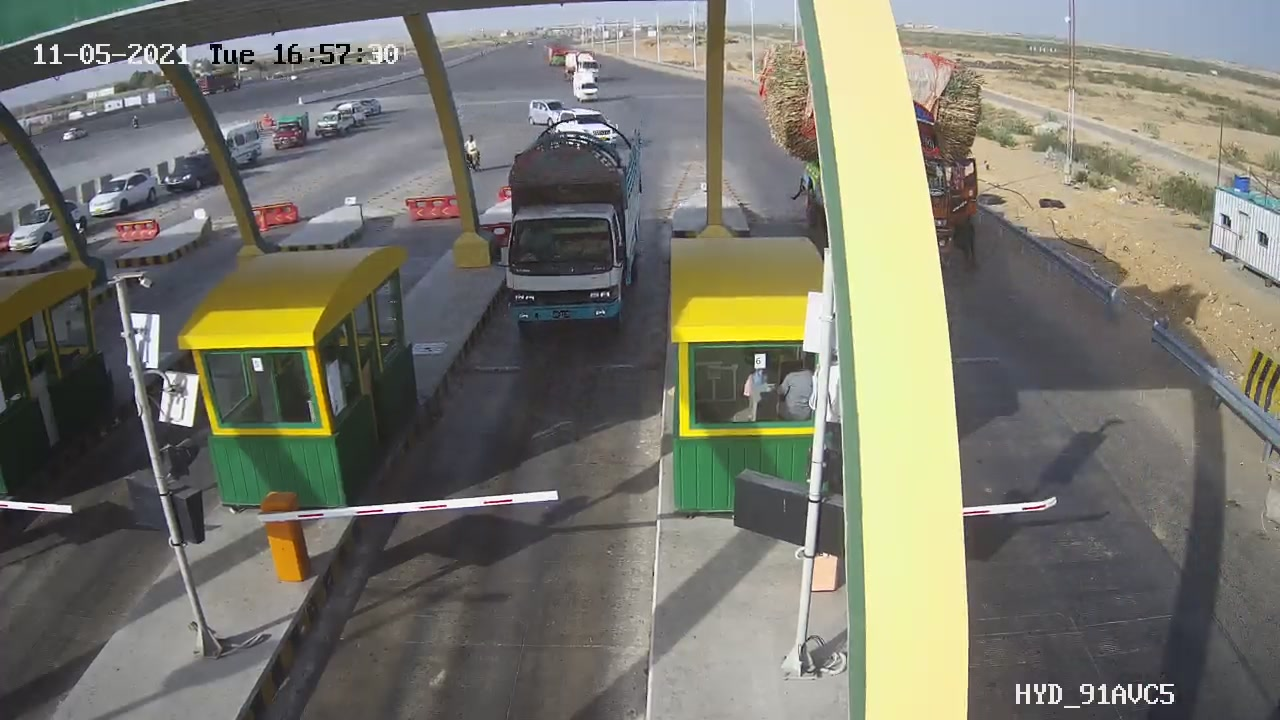F5: (476, 101, 661, 356)
